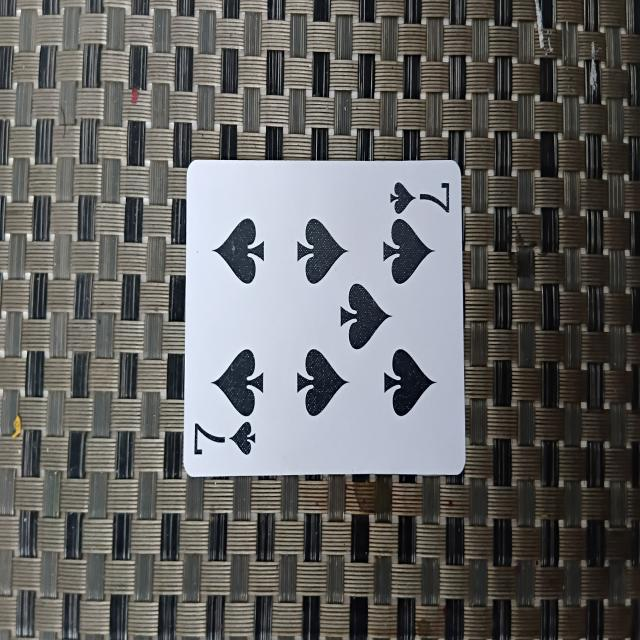7S: (190, 166, 467, 474)
